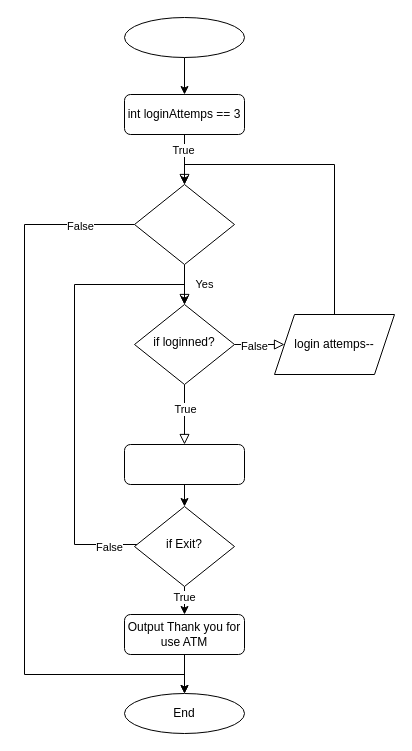
The diagram is 412 pixels wide and 751 high, and some of its shapes have lost their labels. The centre of each missing label's shape, as x and y in pixels:
"loginAttemps > 0" belongs at pixel 184 224.
"Show Menu" belongs at pixel 184 464.
"Start" belongs at pixel 184 37.
